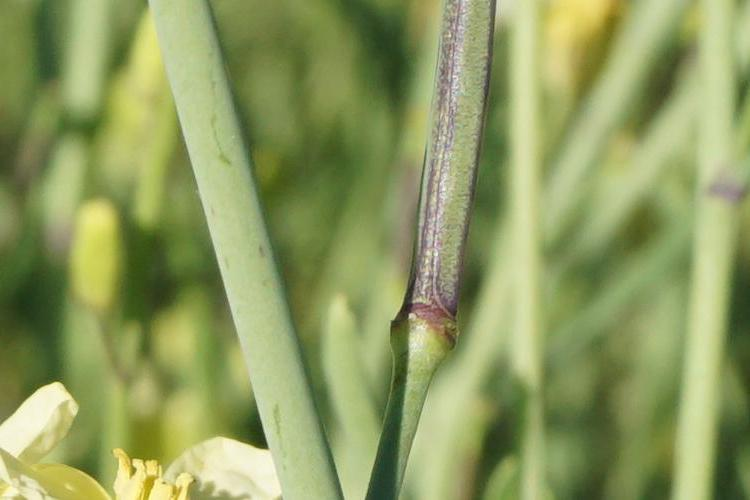pod: (387, 2, 507, 344)
